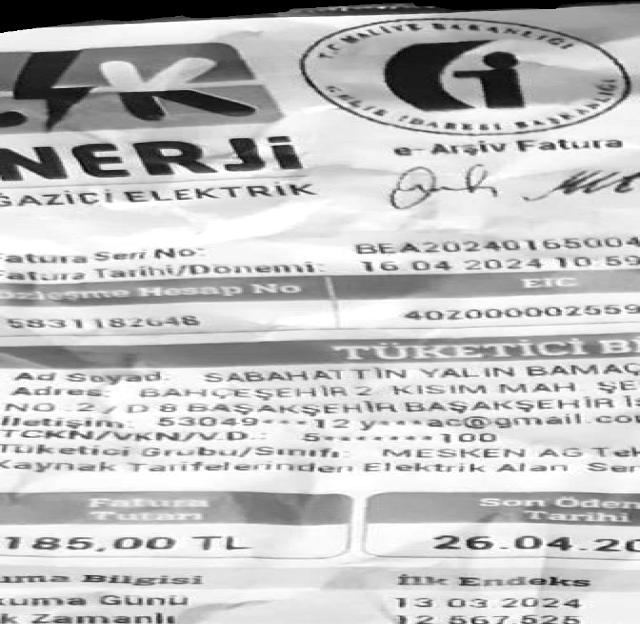electricity-bill: (0, 1, 640, 624)
